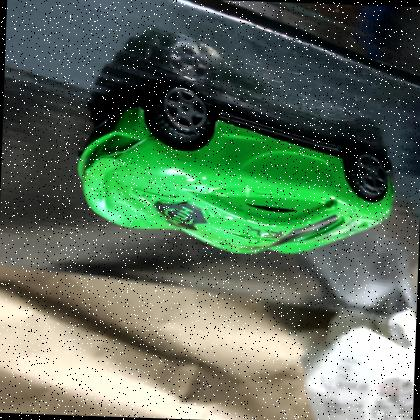Car: (77, 84, 395, 253)
